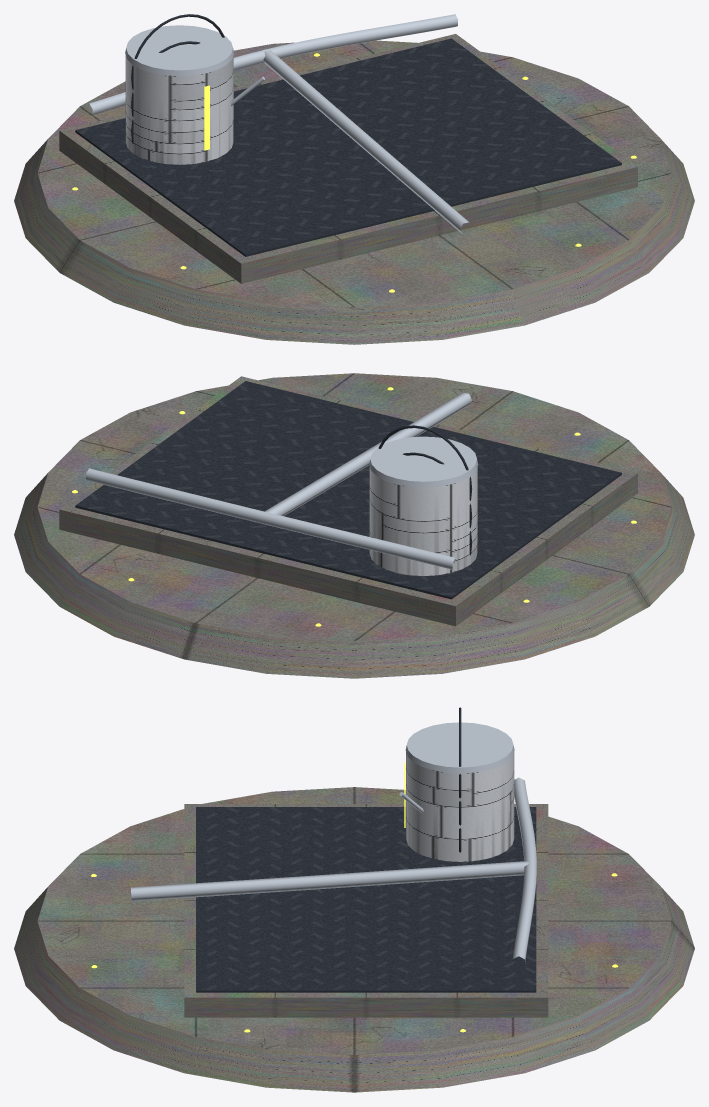
The model's file is tankfarm-T1.glb.
3 renders of one model, top to bottom at view 1: azimuth 30°, elevation 25°; view 2: azimuth 150°, elevation 25°; view 3: azimuth 270°, elevation 25°, orthographic.
Bounding box in the file's own units: 5.8 × 1.66 × 5.8.
Materials: 6 (3 with a texture image).
